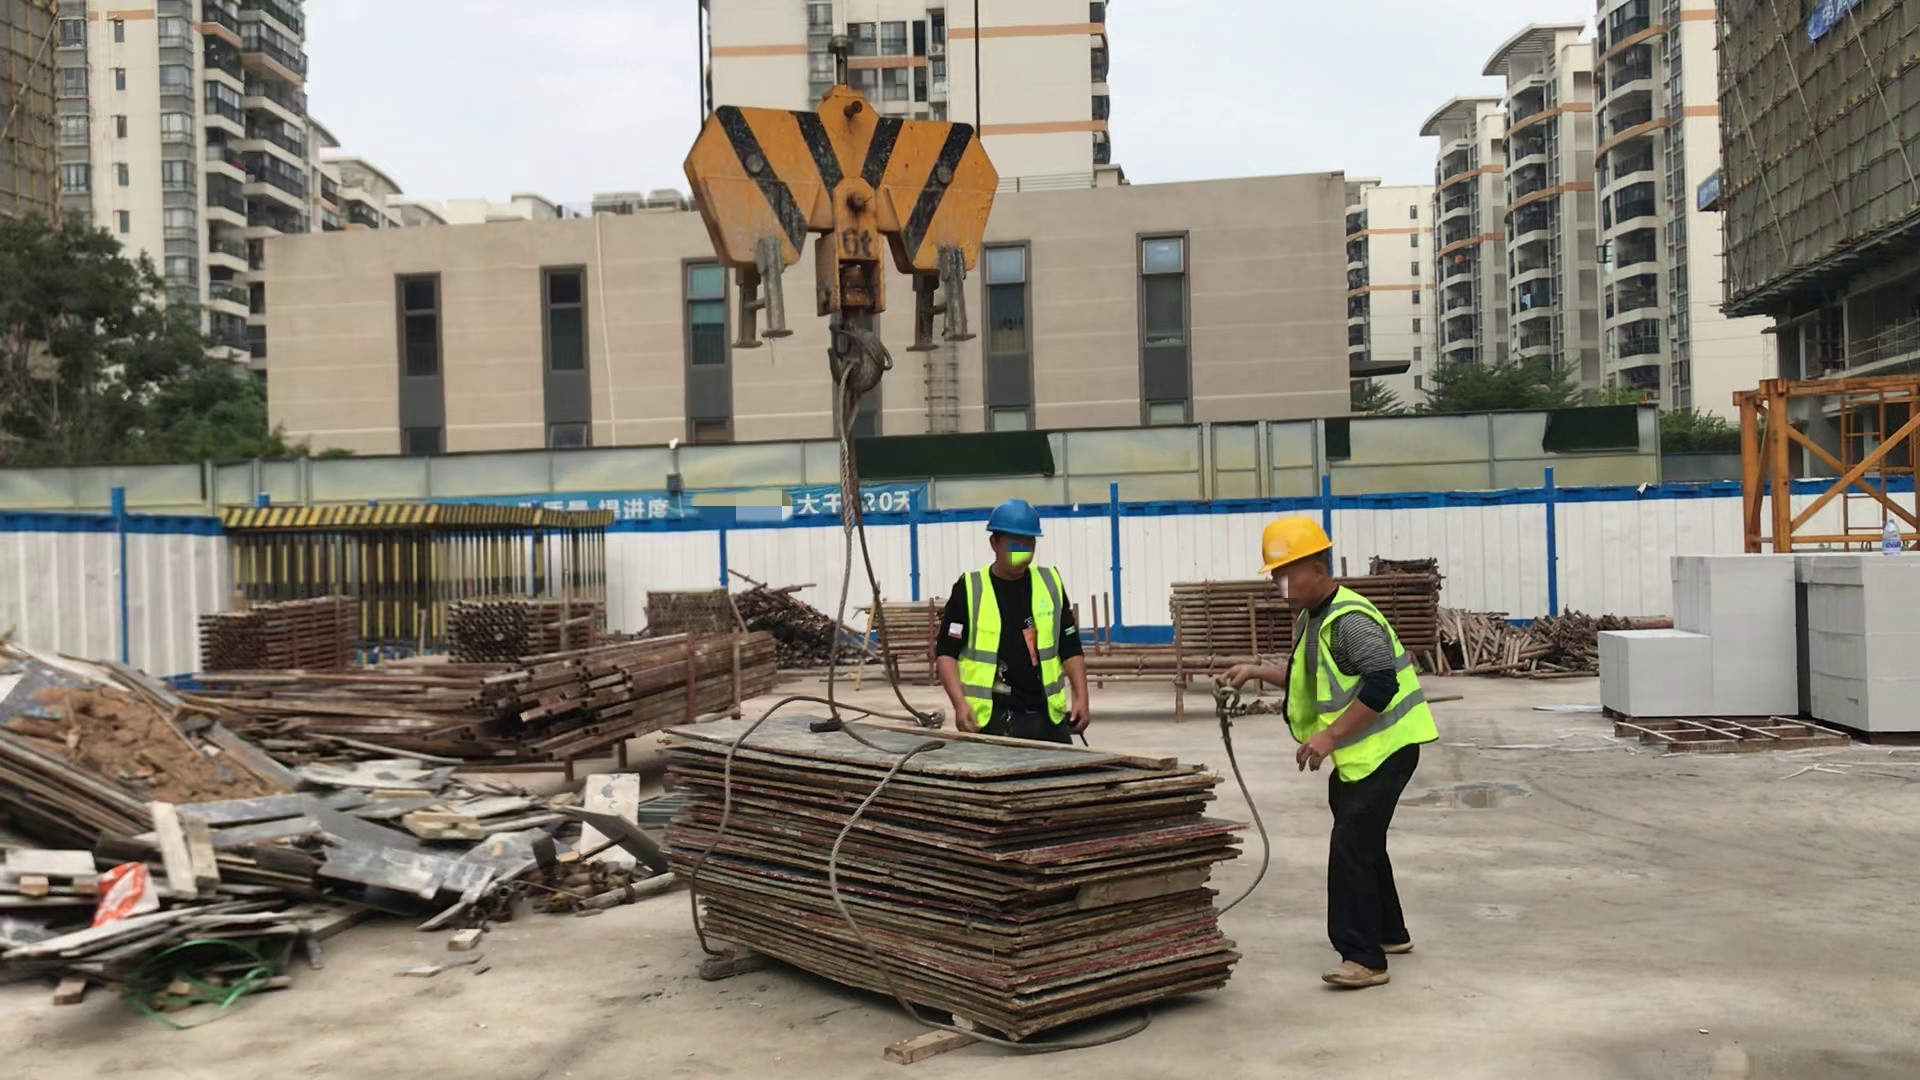board: (665, 714, 1251, 1041)
brick: (1591, 553, 1920, 742)
helmet: (1259, 519, 1331, 579), (981, 498, 1041, 539)
hook: (680, 86, 1021, 394)
person: (1214, 515, 1440, 998), (930, 495, 1093, 745)
scaffold: (202, 592, 359, 671), (1177, 583, 1287, 665), (448, 602, 606, 652), (1370, 578, 1443, 644), (876, 607, 940, 670), (651, 590, 724, 631)
slogan: (461, 479, 926, 528), (1810, 1, 1858, 35)
vest: (1278, 588, 1437, 786), (958, 564, 1070, 727)
